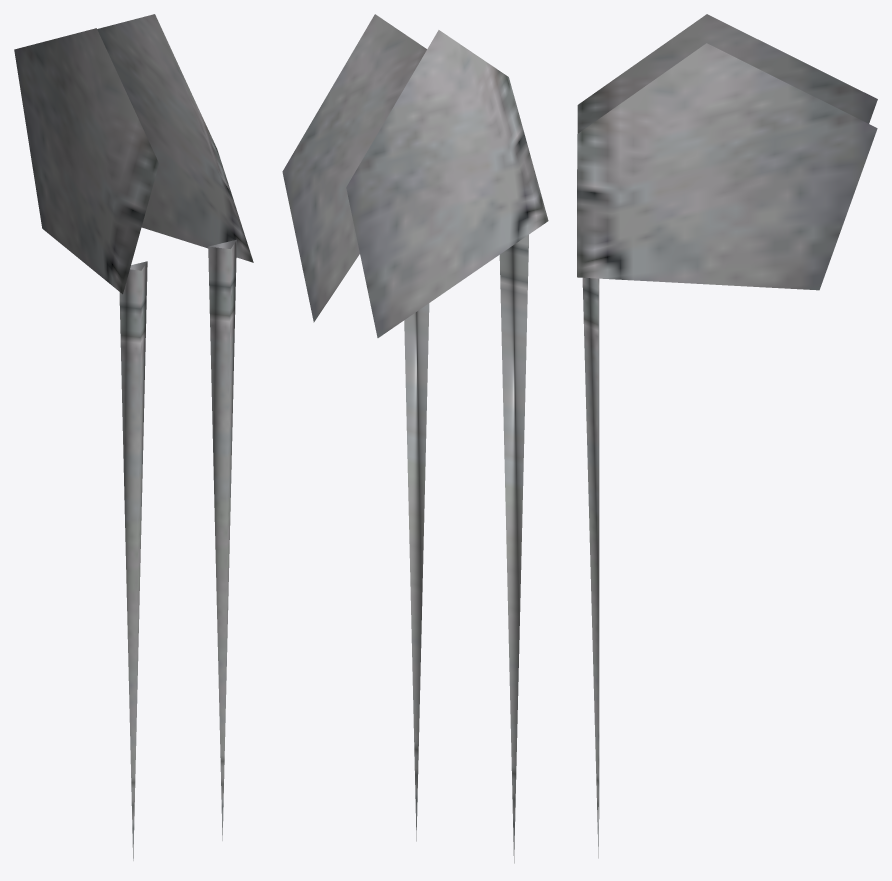
The model's file is lambda_l_wing_guns_faction_l3.fbx.
The picture shows the model from 3 angles, left to right: view 1: azimuth 30°, elevation 25°; view 2: azimuth 150°, elevation 25°; view 3: azimuth 270°, elevation 25°; orthographic projection. The views are drawn at different scales.
Parts seen in each view (by area): view 1: mesh_node; view 2: mesh_node; view 3: mesh_node.
Part boxes in pixels (x1,y1,x2,y2): mesh_node: [14, 14, 253, 860]; mesh_node: [282, 14, 548, 863]; mesh_node: [577, 14, 877, 858].
Bounding box in the file's own units: 0.9143 × 5.33 × 1.78.
2 materials, 2 textured.
